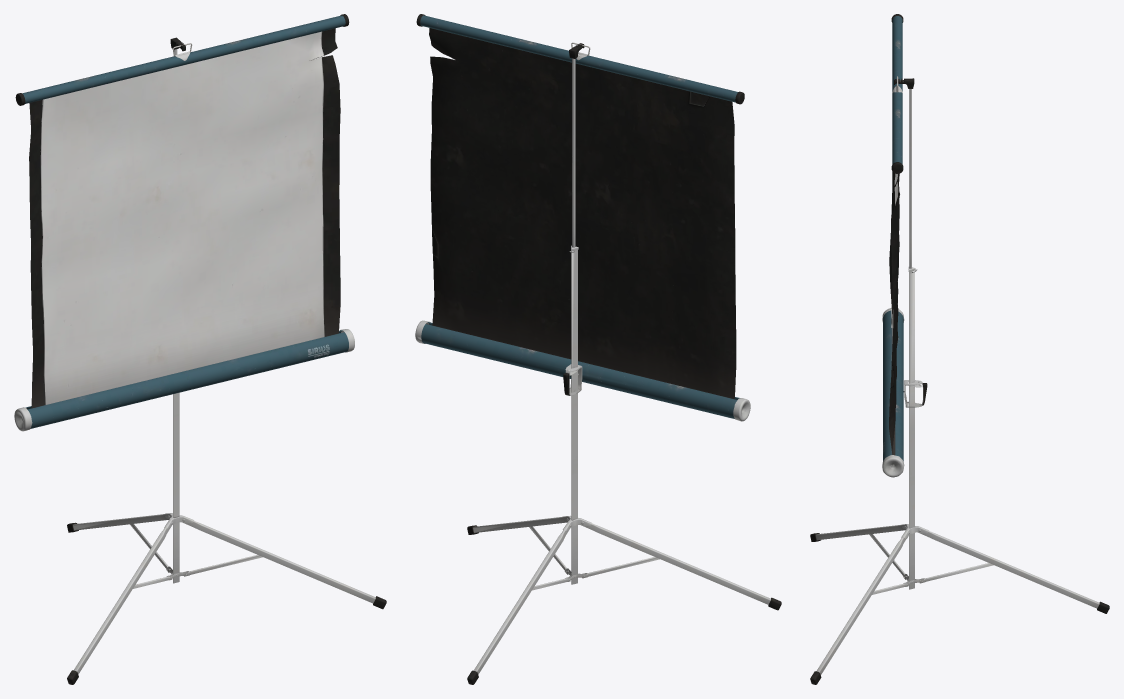
The model's file is projector_screen.glb.
3 renders of one model, left to right at view 1: azimuth 30°, elevation 25°; view 2: azimuth 150°, elevation 25°; view 3: azimuth 270°, elevation 25°, orthographic. The views are drawn at different scales.
Visible parts, largest first — view 1: projector_screen; view 2: projector_screen; view 3: projector_screen.
Part boxes in pixels (box(x1,y1,x2,y2)): projector_screen: box(14, 14, 386, 684); projector_screen: box(415, 14, 781, 684); projector_screen: box(810, 14, 1109, 684).
Size of the model in its own units: 1.09 by 1.8 by 0.9159.
Materials: 2 (2 with a texture image).
